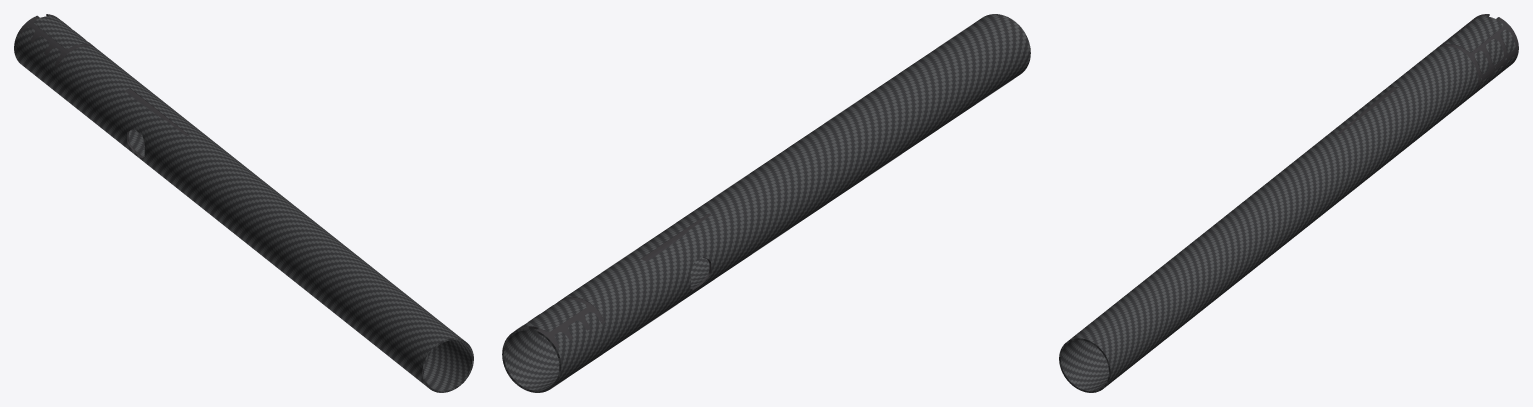
3 renders of one model, left to right at view 1: azimuth 30°, elevation 25°; view 2: azimuth 150°, elevation 25°; view 3: azimuth 330°, elevation 25°, orthographic. The views are drawn at different scales.
Visible parts, largest first — view 1: tubo_fibra_carbono_1; view 2: tubo_fibra_carbono_1; view 3: tubo_fibra_carbono_1.
Part boxes in pixels (x1=…): tubo_fibra_carbono_1: x1=14, y1=14, x2=473, y2=392; tubo_fibra_carbono_1: x1=502, y1=14, x2=1030, y2=392; tubo_fibra_carbono_1: x1=1059, y1=14, x2=1518, y2=392.
Bounding box in the file's own units: 15.95 × 23.42 × 219.
Materials: 1 (1 with a texture image).
